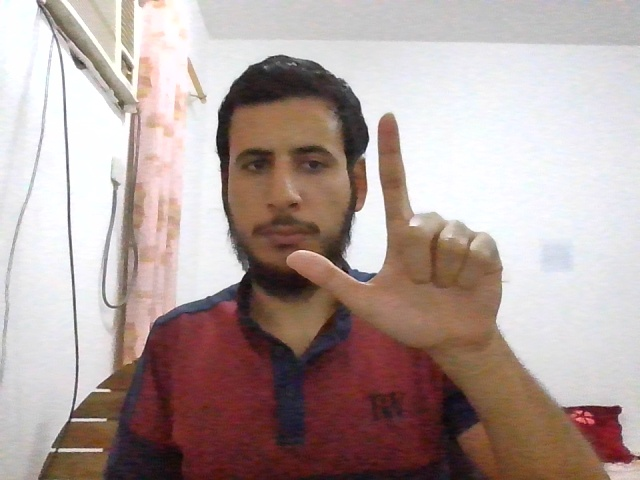Two: (287, 112, 505, 349)
